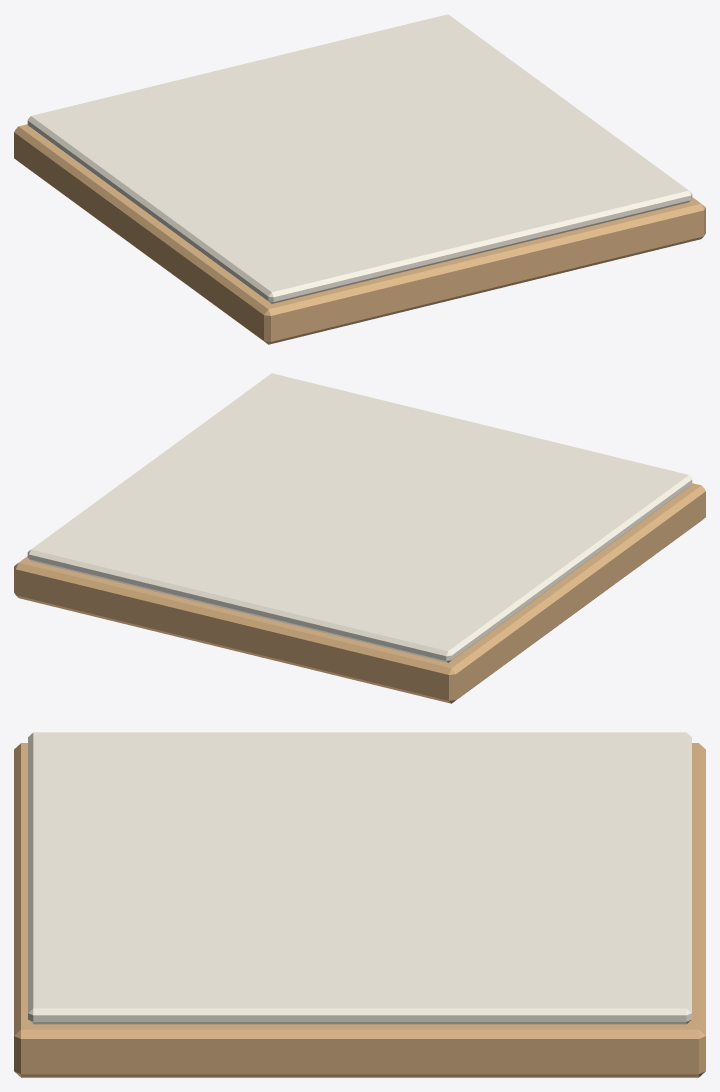
File: tuile_chemin.glb
3 renders of one model, top to bottom at view 1: azimuth 30°, elevation 25°; view 2: azimuth 150°, elevation 25°; view 3: azimuth 270°, elevation 25°, orthographic. The views are drawn at different scales.
Parts seen in each view (by area): view 1: tuile_chemin_top, tuile_chemin_base; view 2: tuile_chemin_top, tuile_chemin_base; view 3: tuile_chemin_top, tuile_chemin_base.
Part boxes in pixels (bbox=[...]): tuile_chemin_top: bbox=[27, 14, 692, 303]; tuile_chemin_base: bbox=[14, 124, 705, 344]; tuile_chemin_top: bbox=[27, 373, 692, 662]; tuile_chemin_base: bbox=[14, 483, 705, 703]; tuile_chemin_top: bbox=[28, 732, 691, 1024]; tuile_chemin_base: bbox=[14, 743, 705, 1077].
Bounding box in the file's own units: 1.96 × 0.2 × 1.96.
